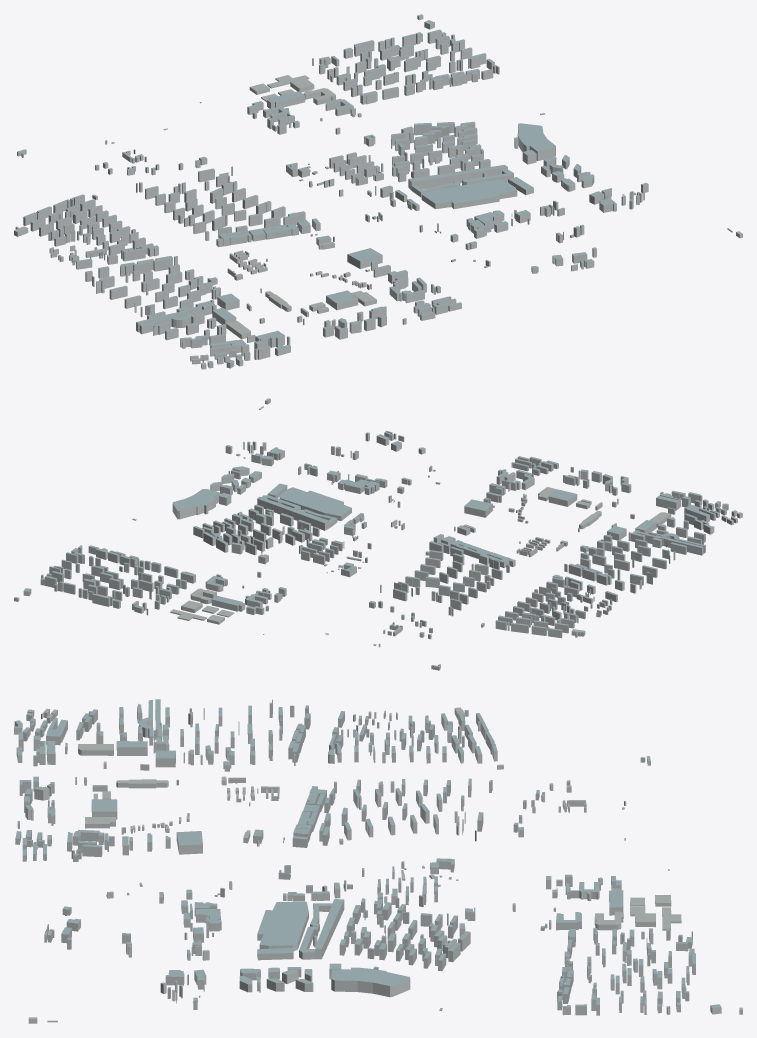
File: far.glb
3 views of the same model, one above another, from view 1: azimuth 30°, elevation 25°; view 2: azimuth 150°, elevation 25°; view 3: azimuth 270°, elevation 25° (orthographic). The views are drawn at different scales.
Size of the model in its own units: 2143 by 44.98 by 2100.
